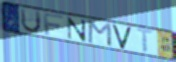F: (42, 12, 65, 37)
M: (87, 20, 113, 48)
N: (67, 16, 87, 43)
T: (135, 27, 156, 54)
U: (19, 7, 43, 34)
V: (111, 24, 133, 50)
